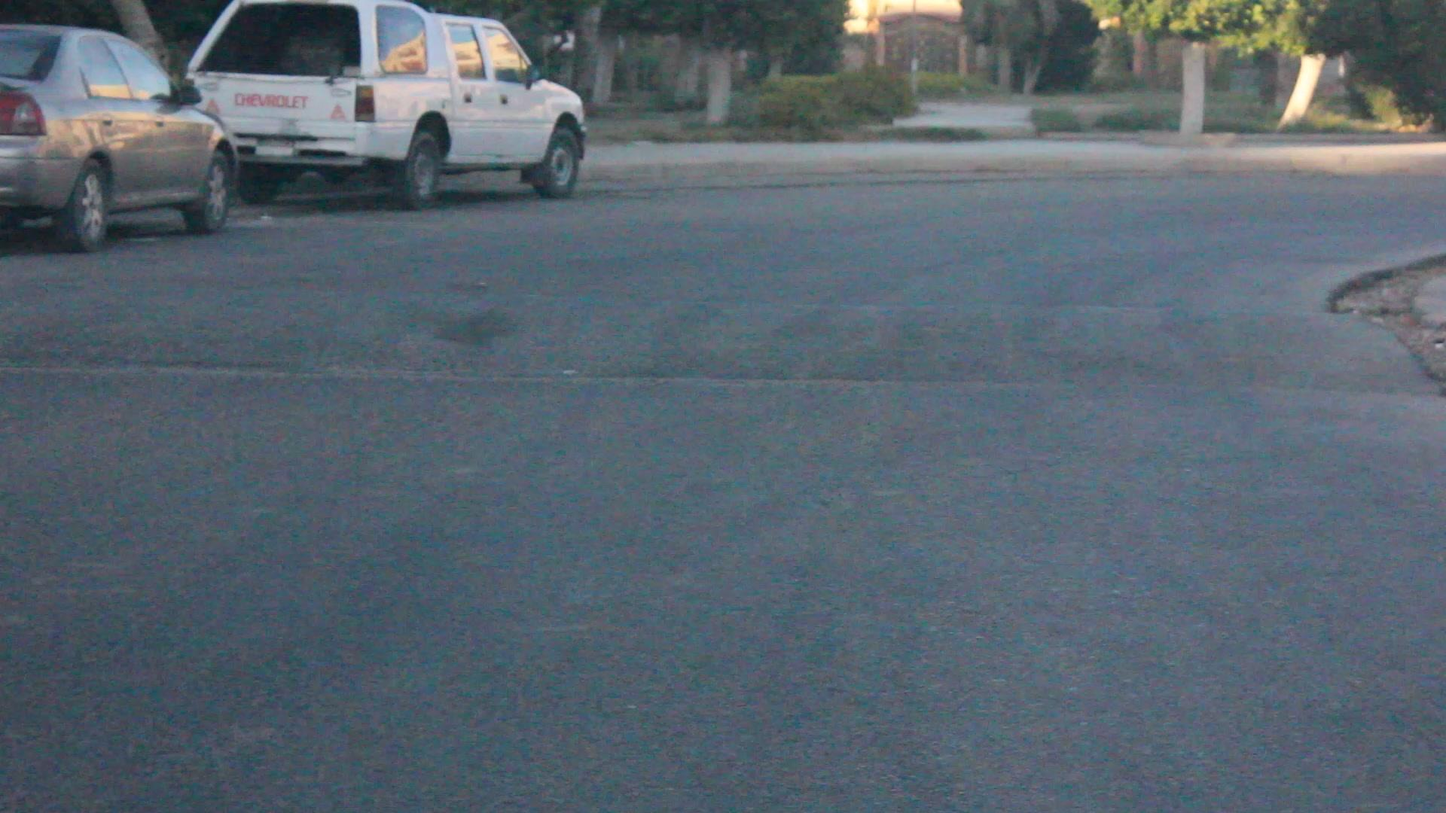Bump: (4, 252, 1431, 403)
